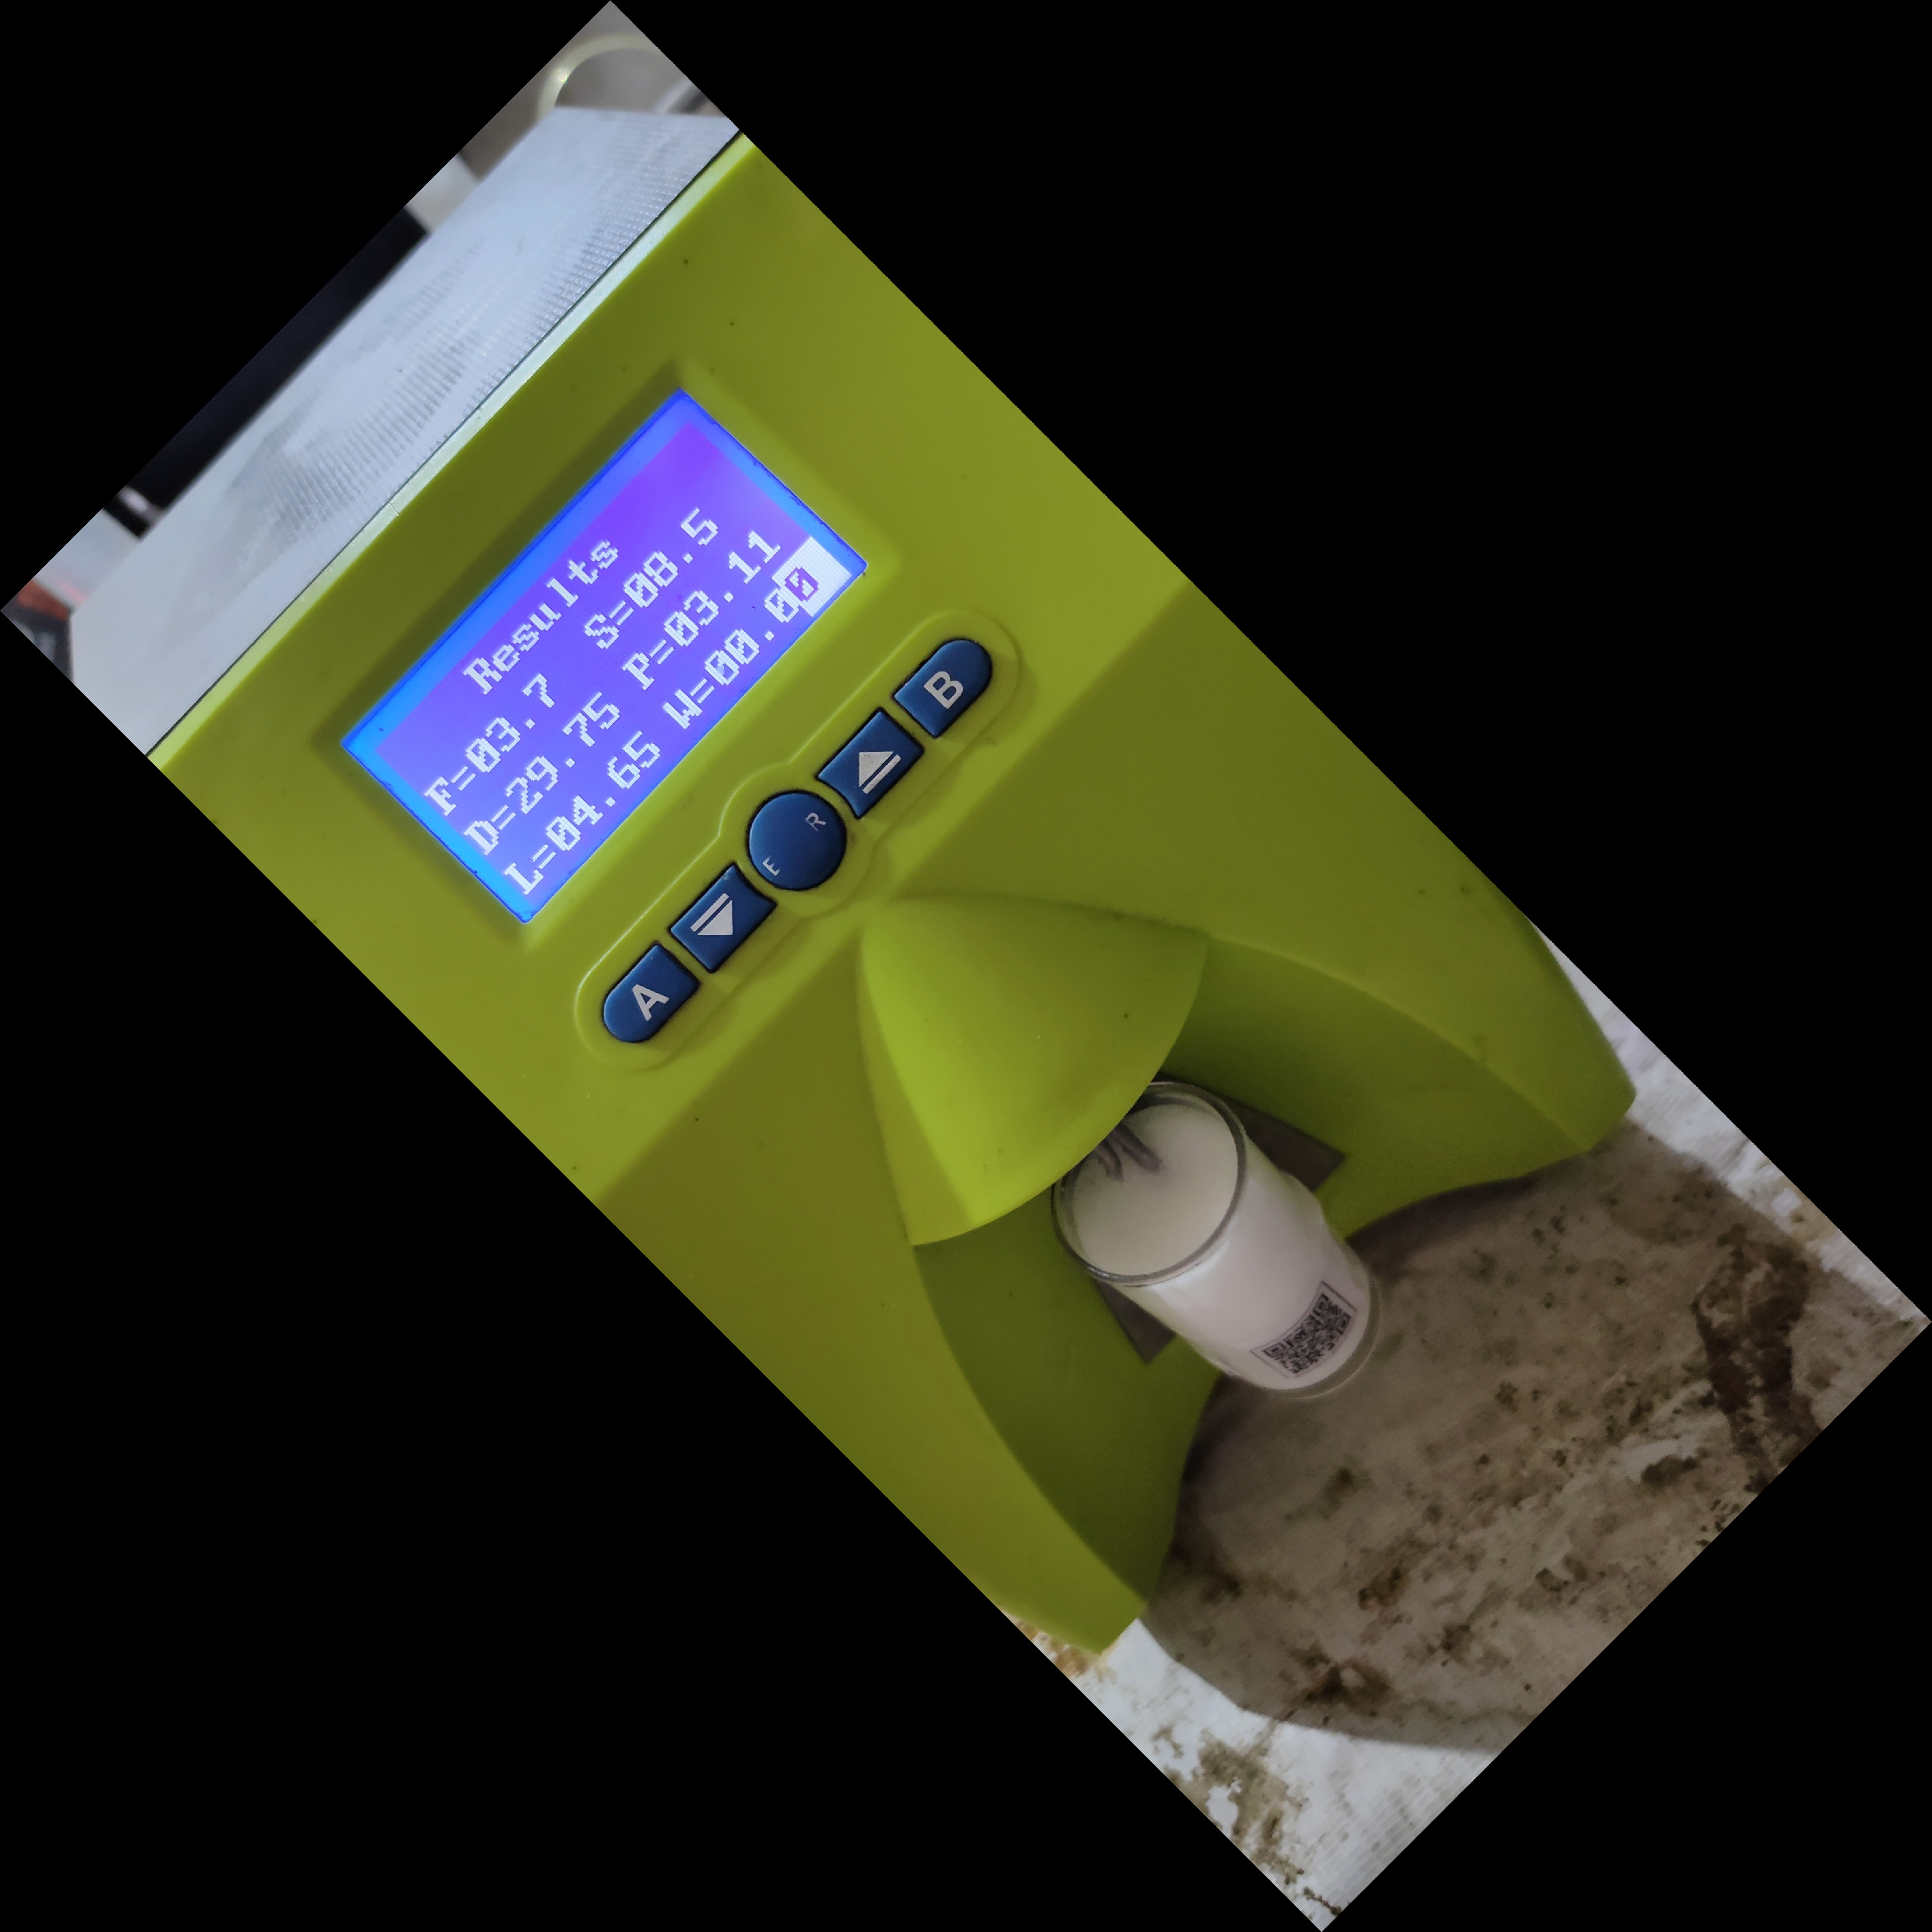lcd: (299, 391, 883, 950)
qr: (1238, 1272, 1368, 1415)
